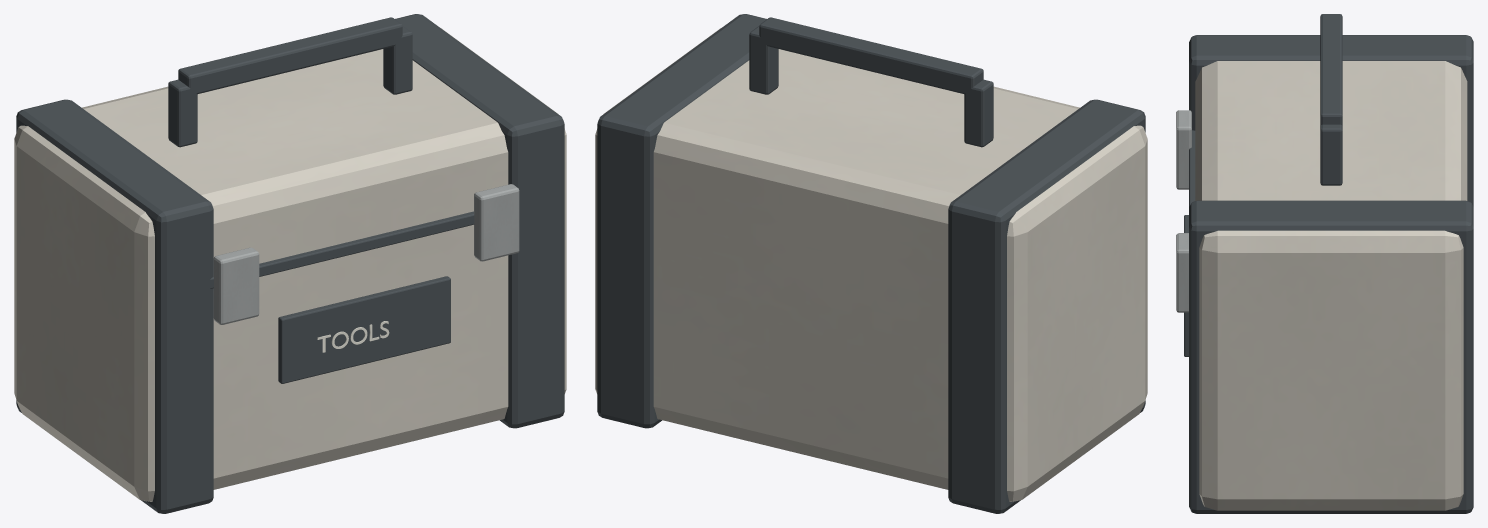
File: marked_technical_case.glb
3 renders of one model, left to right at view 1: azimuth 30°, elevation 25°; view 2: azimuth 150°, elevation 25°; view 3: azimuth 270°, elevation 25°, orthographic. The views are drawn at different scales.
Visible parts, largest first — view 1: CaseBody, ReinforcedEnd, ReinforcedEnd.001, LabelPanel, Handle, Latch, Latch.001, LidSeam, HandleSupport, HandleSupport.001; view 2: CaseBody, ReinforcedEnd, ReinforcedEnd.001, Handle, HandleSupport, HandleSupport.001; view 3: CaseBody, ReinforcedEnd.001, ReinforcedEnd, Handle, HandleSupport.001, Latch, Latch.001, LidSeam.
Boxes of the visible parts, <box> form: CaseBody: <box>14,28,566,501</box>; ReinforcedEnd: <box>16,99,213,513</box>; ReinforcedEnd.001: <box>395,14,564,428</box>; LabelPanel: <box>278,276,450,383</box>; Handle: <box>178,17,402,94</box>; Latch: <box>213,247,259,324</box>; Latch.001: <box>474,184,519,261</box>; LidSeam: <box>204,203,523,289</box>; HandleSupport: <box>168,79,197,147</box>; HandleSupport.001: <box>383,25,412,94</box>; CaseBody: <box>595,28,1147,501</box>; ReinforcedEnd: <box>948,99,1145,513</box>; ReinforcedEnd.001: <box>597,14,766,428</box>; Handle: <box>759,17,983,94</box>; HandleSupport: <box>964,79,993,147</box>; HandleSupport.001: <box>749,25,778,94</box>; CaseBody: <box>1195,61,1467,510</box>; ReinforcedEnd.001: <box>1189,200,1473,513</box>; ReinforcedEnd: <box>1189,35,1473,206</box>; Handle: <box>1320,14,1342,125</box>; HandleSupport.001: <box>1320,124,1342,185</box>; Latch: <box>1176,110,1191,189</box>; Latch.001: <box>1176,233,1188,312</box>; LidSeam: <box>1189,130,1195,207</box>.
Bounding box in the file's own units: 0.76 × 0.6225 × 0.4705.
4 materials, 2 textured.
